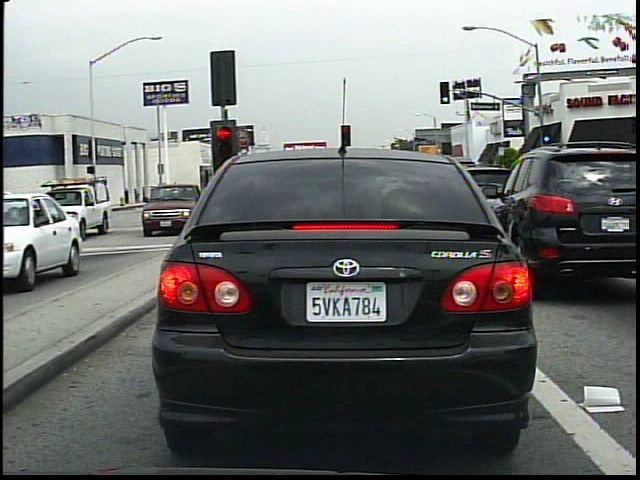person: (164, 172, 185, 201)
